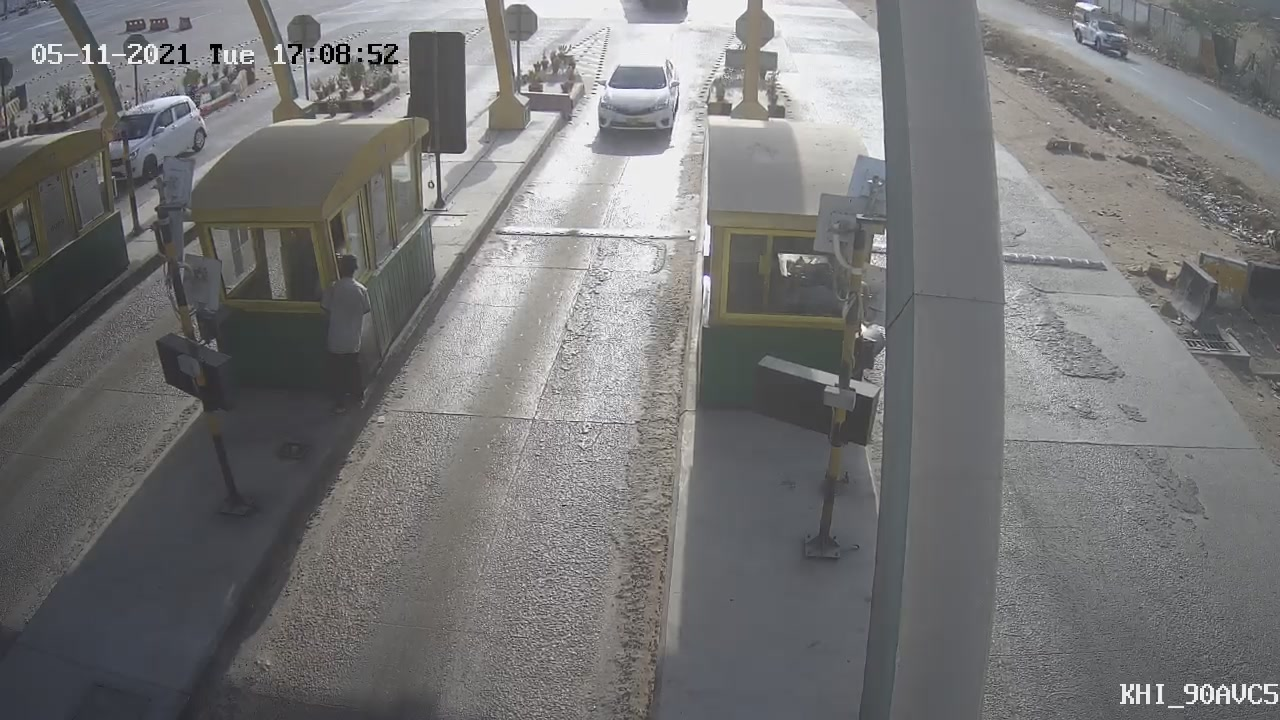F1: (582, 43, 690, 162)
